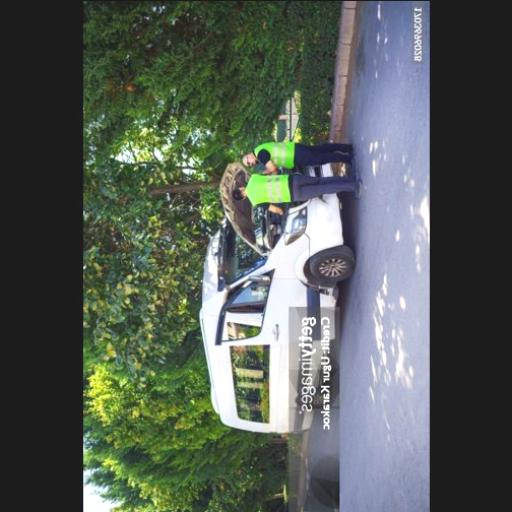van: (198, 152, 354, 428)
